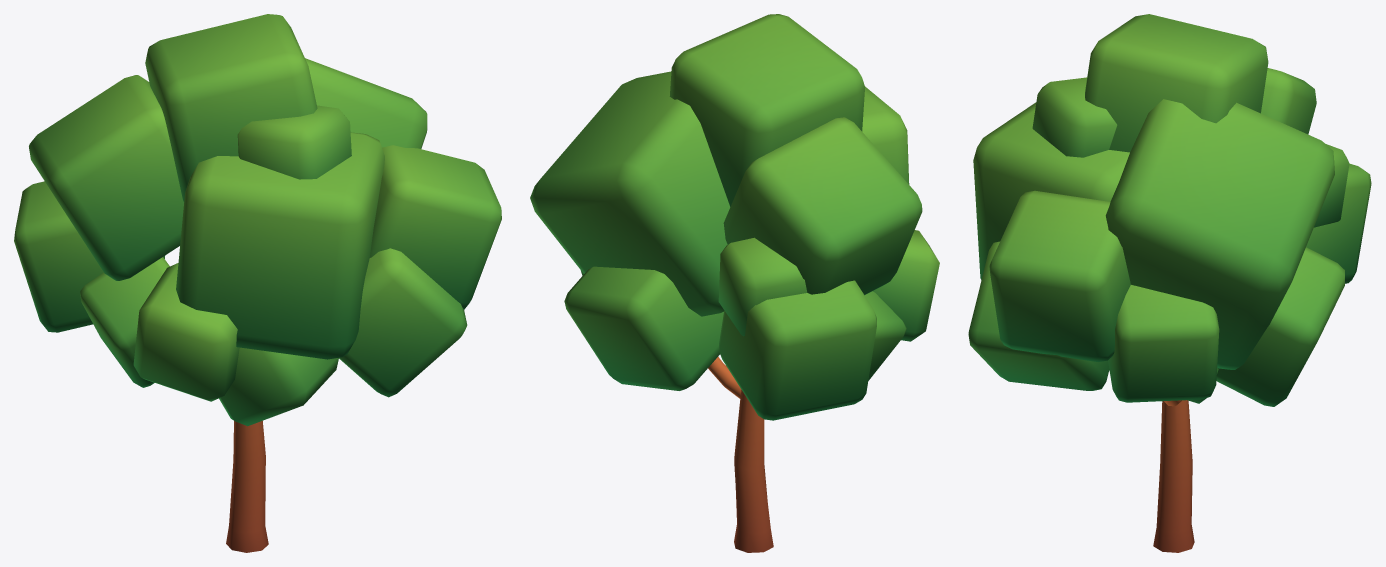
File: tree_2_e_trunk.glb
3 views of the same model, side by side, from view 1: azimuth 30°, elevation 25°; view 2: azimuth 150°, elevation 25°; view 3: azimuth 270°, elevation 25° (orthographic).
Visible parts, largest first — view 1: tree_2_e_trunk; view 2: tree_2_e_trunk; view 3: tree_2_e_trunk.
Boxes of the visible parts, x1=… form: tree_2_e_trunk: x1=14, y1=14, x2=501, y2=552; tree_2_e_trunk: x1=530, y1=14, x2=939, y2=552; tree_2_e_trunk: x1=968, y1=14, x2=1371, y2=552.
Size of the model in its own units: 6.05 by 7.91 by 5.68.
Materials: 2 (2 with a texture image).
